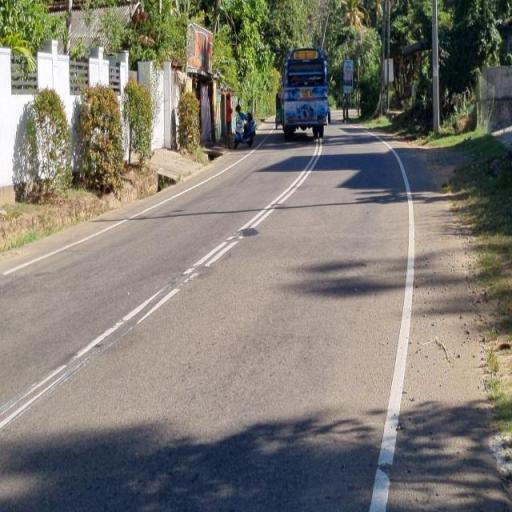double_white_line: (181, 138, 324, 284)
